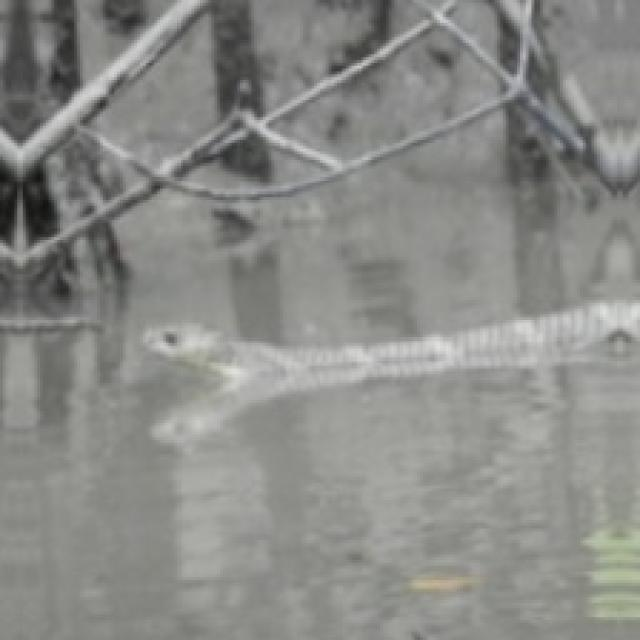king cobra: (143, 300, 637, 391)
